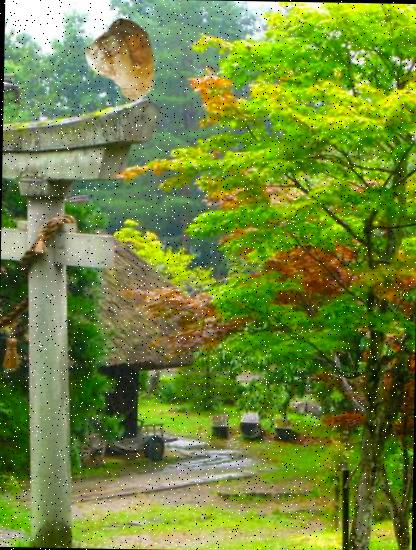Ginger: (79, 19, 165, 105)
